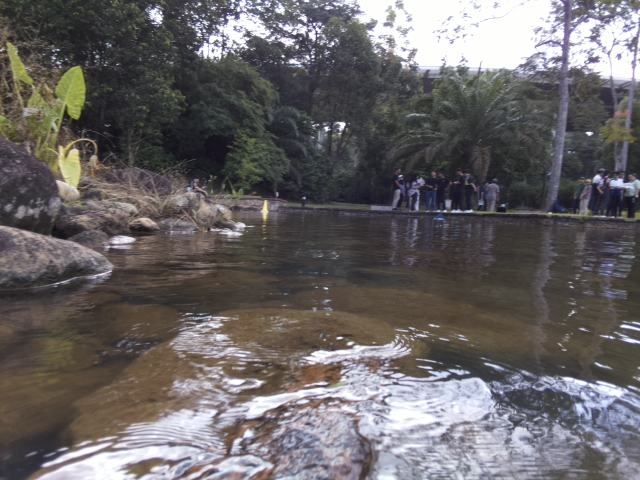checkpoint: (260, 198, 270, 216)
